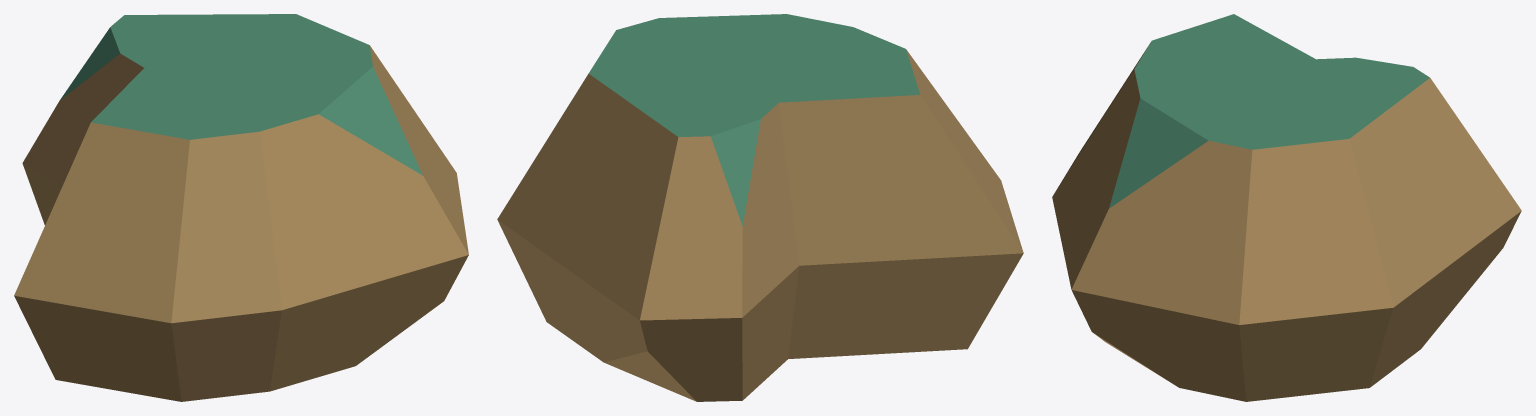
The model's file is naturePack_008.fbx.
The picture shows the model from 3 angles, left to right: view 1: azimuth 30°, elevation 25°; view 2: azimuth 150°, elevation 25°; view 3: azimuth 270°, elevation 25°; orthographic projection. The views are drawn at different scales.
Parts seen in each view (by area): view 1: Mesh1_Group1 Model; view 2: Mesh1_Group1 Model; view 3: Mesh1_Group1 Model.
Part boxes in pixels (x1,y1,x2,y2): Mesh1_Group1 Model: (14, 14, 468, 401); Mesh1_Group1 Model: (497, 14, 1023, 401); Mesh1_Group1 Model: (1052, 14, 1521, 401).
Size of the model in its own units: 3.1 by 1.58 by 2.86.
